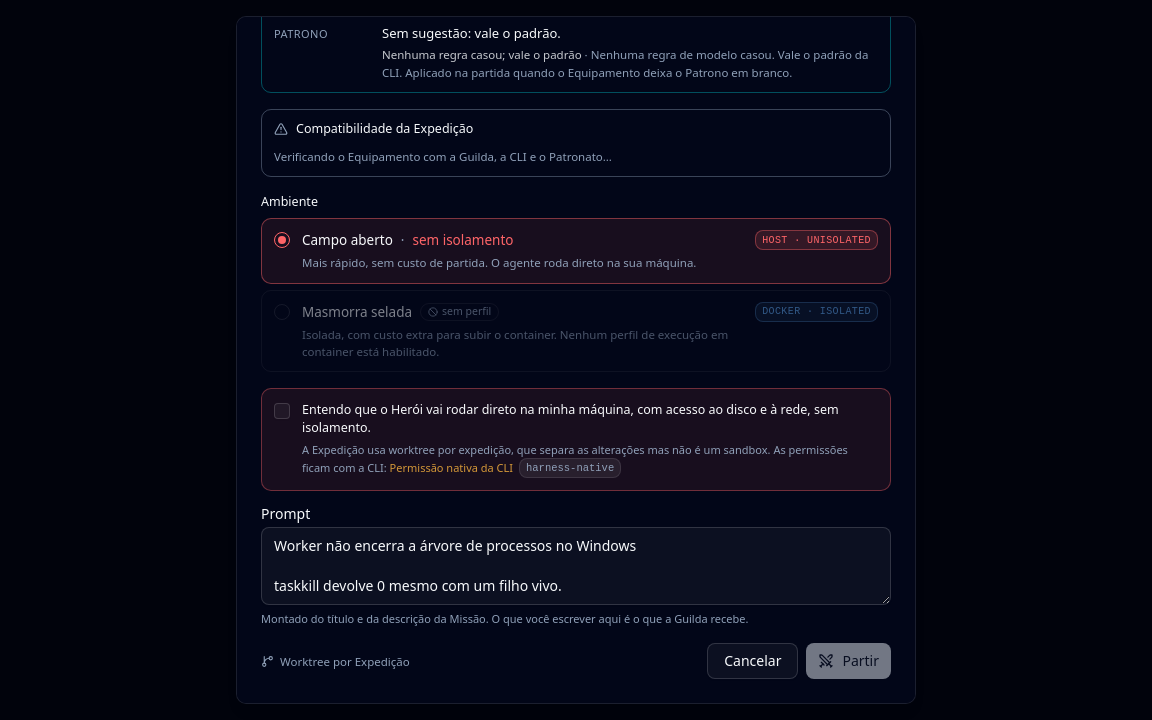
o preflight do Equipamento antes de partir › o 409 com blockers da API fica no diálogo, com os mesmos itens
(page scrolled)
Click the checkbox named "Aceito executar sem isolamento". click: {"x": 282, "y": 411}
box: top-left (274, 403), bottom-right (290, 419)
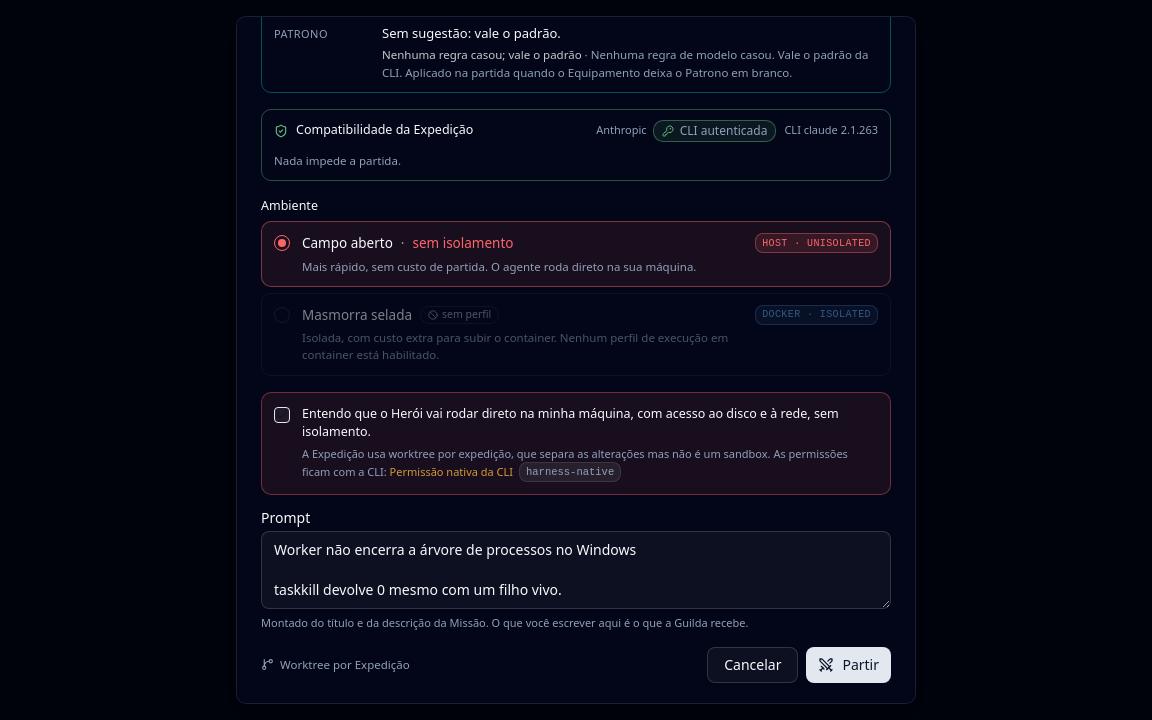
Expected: the element that starts with "Compatibilidade da Expedição" is shown, top-left (261, 108), bottom-right (891, 180)
Now the button "Partir" is enabled
Click the button "Partir". click: {"x": 849, "y": 664}
box: top-left (806, 646), bottom-right (891, 682)
(page scrolled)
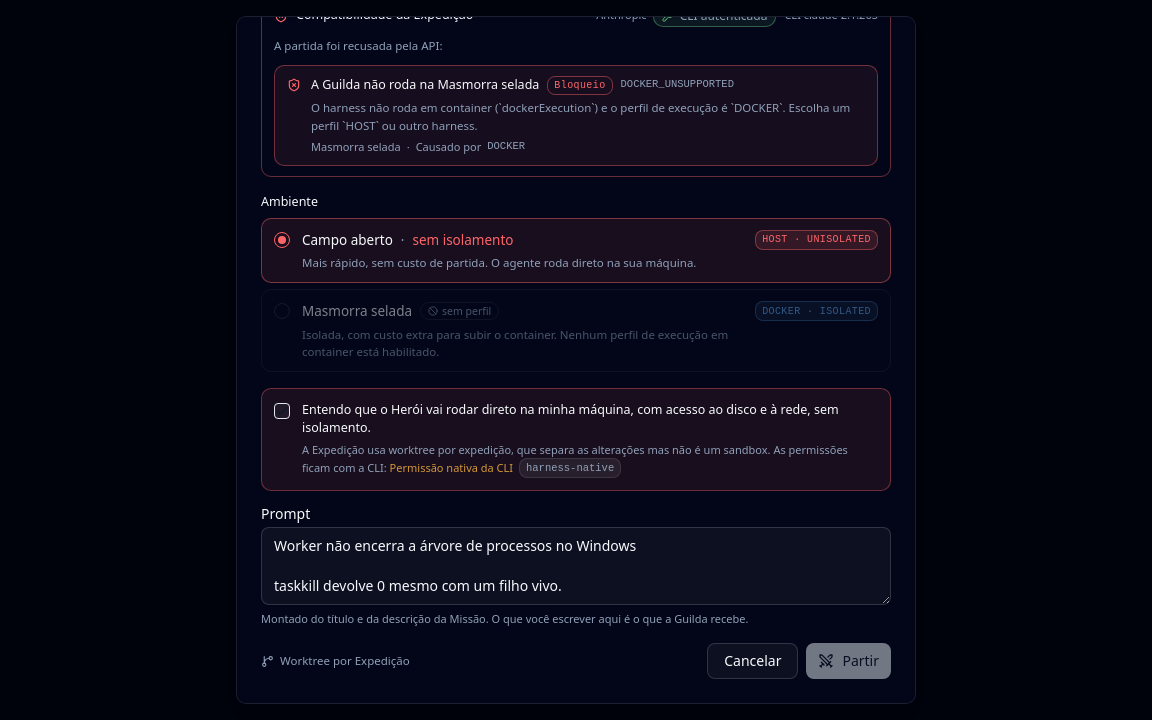
Expected: the element that starts with "Compatibilidade da Expedição" is shown, top-left (261, 16), bottom-right (891, 177)
Now the element that starts with "Compatibilidade da Expedição" shows "A partida foi recusada pela API:", box top-left (274, 38), bottom-right (442, 52)
Now the button "Partir" is disabled, box top-left (806, 643), bottom-right (891, 679)
